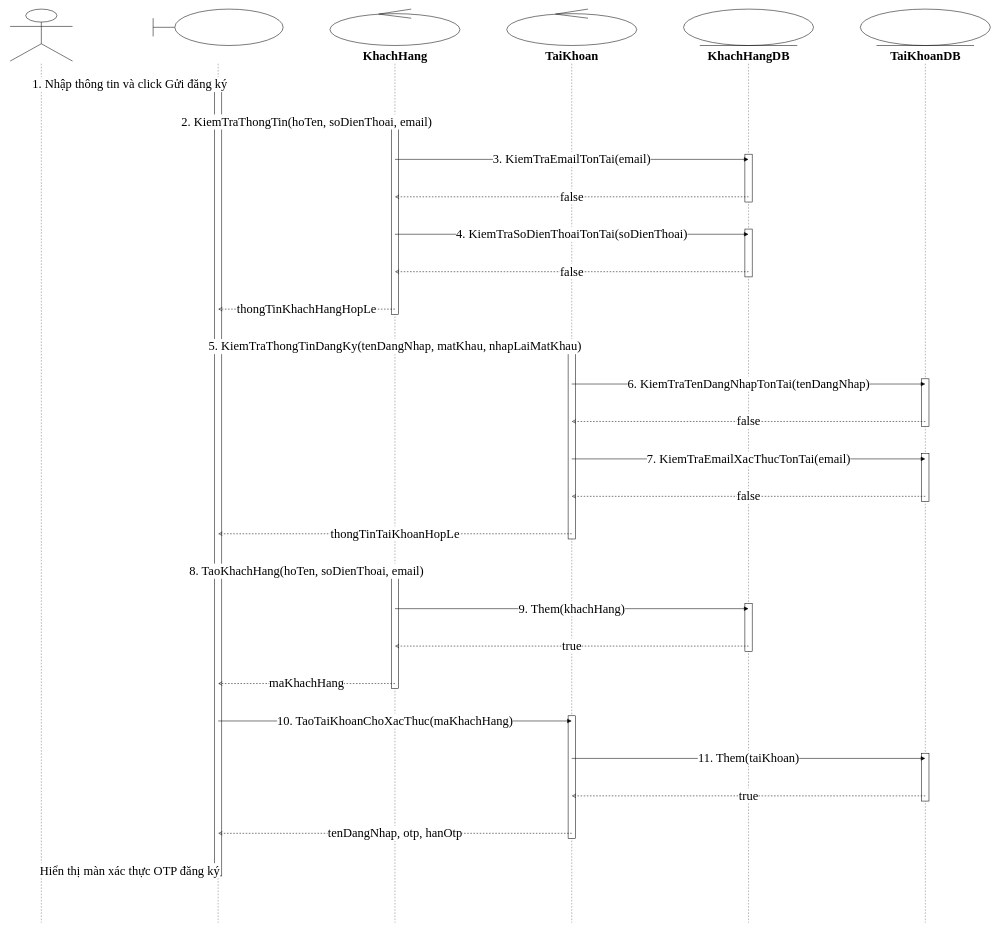
The diagram is 999 pixels wide and 932 high, and some of its shapes have lost their labels. Here are the shapes that lost their labels. From the top down, the centre of each, then its label:
(41,35): Khách hàng
(218,27): MHDangKyTaiKhoan
